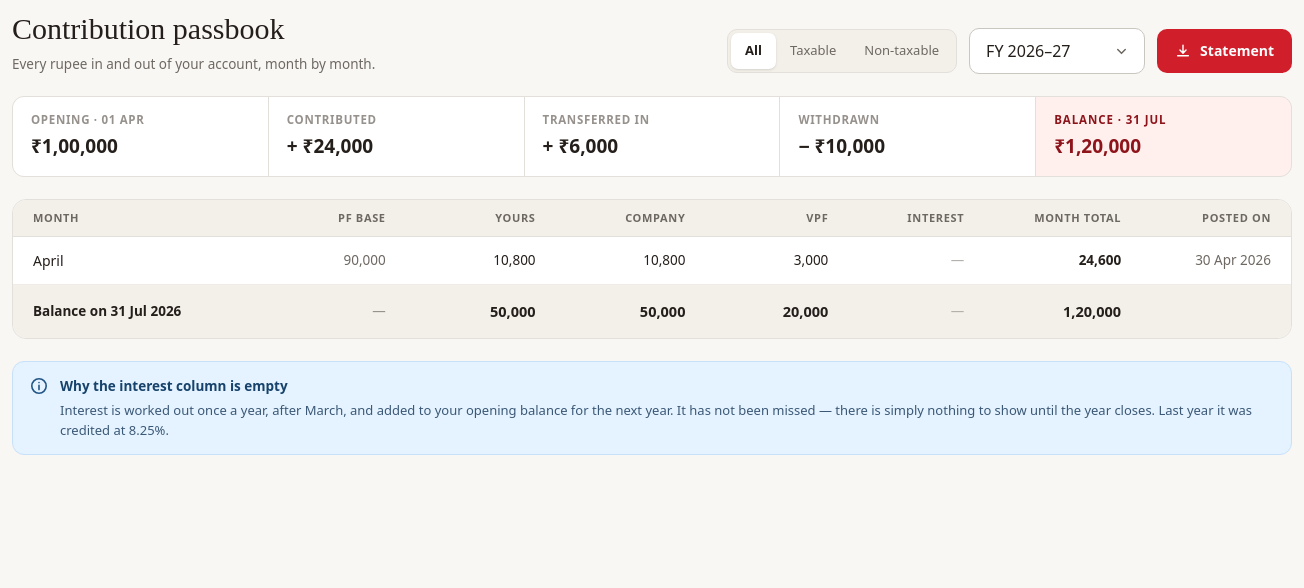
Test case: PassbookView taxable filter › changes every figure when Taxable is pressed
Click the tab "Taxable": (813, 51) [776,33,850,68]
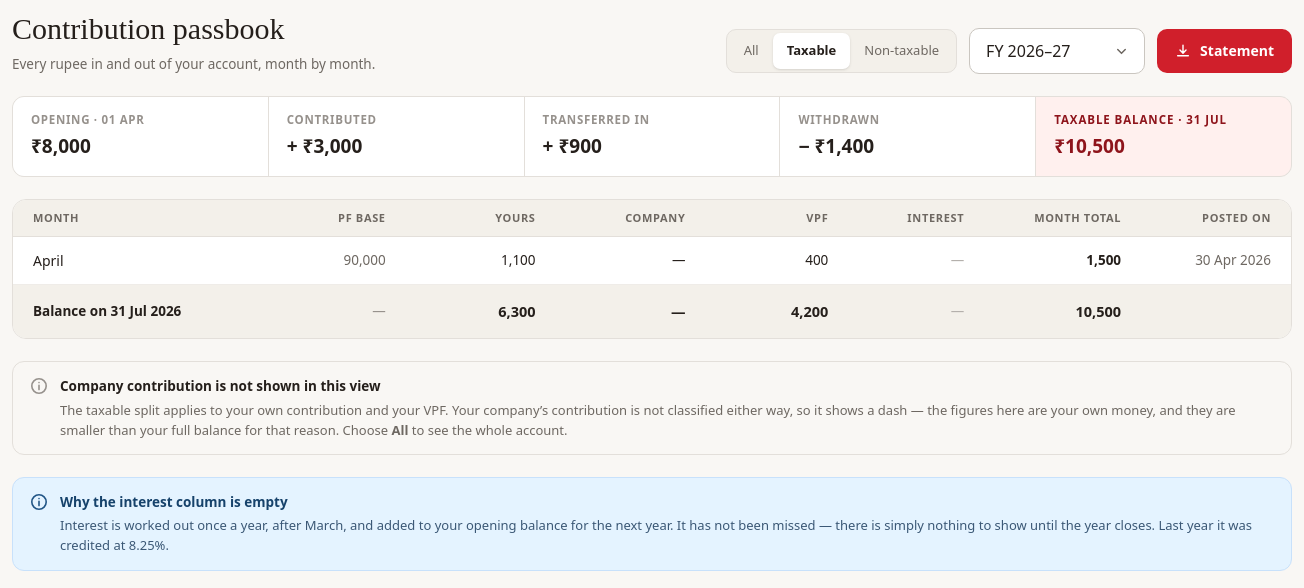
Now the text "10,500" is shown, box [1054,133,1125,159]
Now the text "1,500" is shown, box [1086,252,1121,270]
Now the text "1,20,000" is gone
